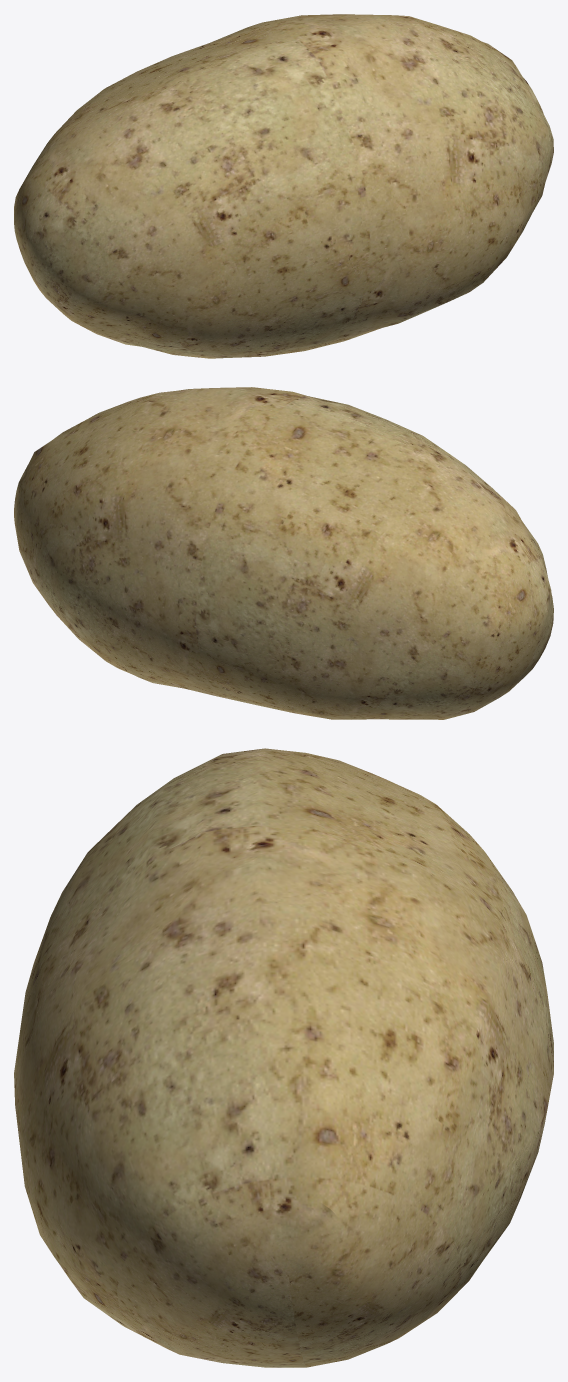
The model's file is potato We are cooked.fbx.
The picture shows the model from 3 angles, top to bottom: view 1: azimuth 30°, elevation 25°; view 2: azimuth 150°, elevation 25°; view 3: azimuth 270°, elevation 25°; orthographic projection. The views are drawn at different scales.
Parts seen in each view (by area): view 1: potato; view 2: potato; view 3: potato.
Part boxes in pixels (x1,y1,x2,y2): potato: (14,14,553,358); potato: (14,387,553,719); potato: (14,748,553,1367).
Size of the model in its own units: 7.09 by 3.79 by 4.07.
